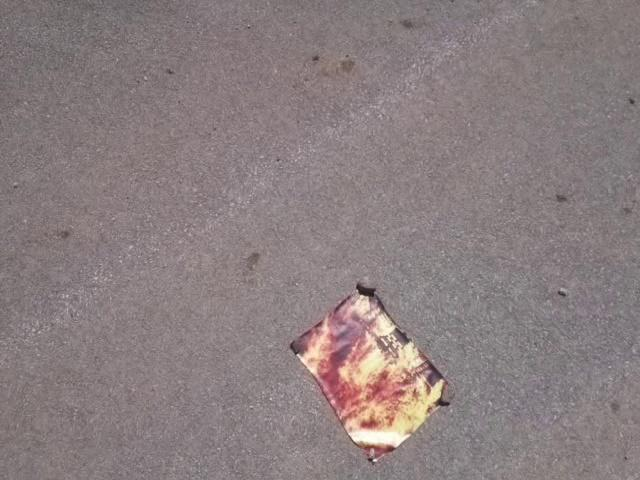fire-poster: (287, 280, 451, 465)
